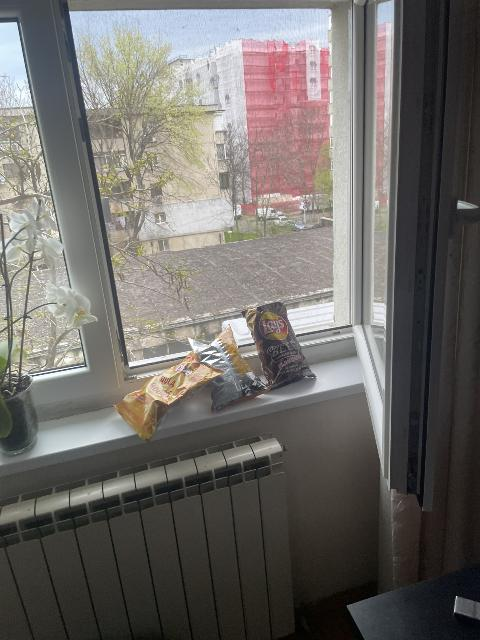Chio Cascaval 125g: (190, 329, 265, 413)
Chio Hula Hoops Cheese 70g: (112, 350, 224, 444)
Lays Beef Grilled Ribs 125g: (241, 302, 315, 390)
